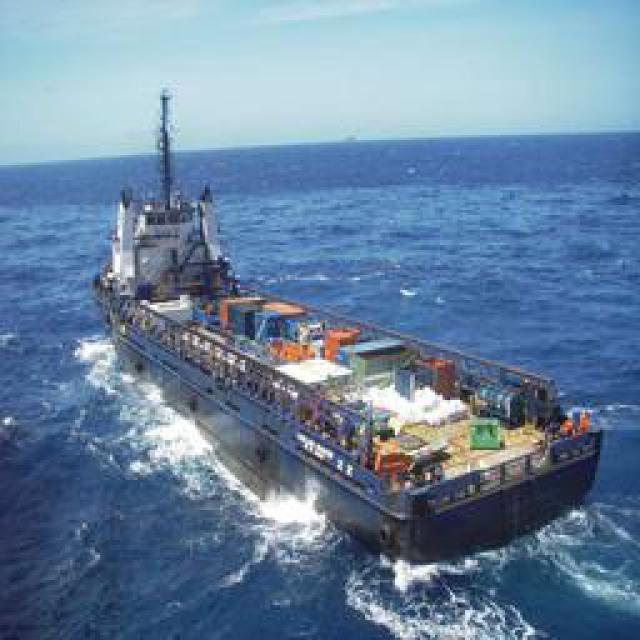Ship: (98, 184, 606, 567)
